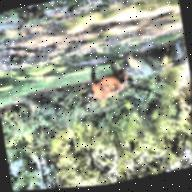boar: (86, 55, 136, 103)
